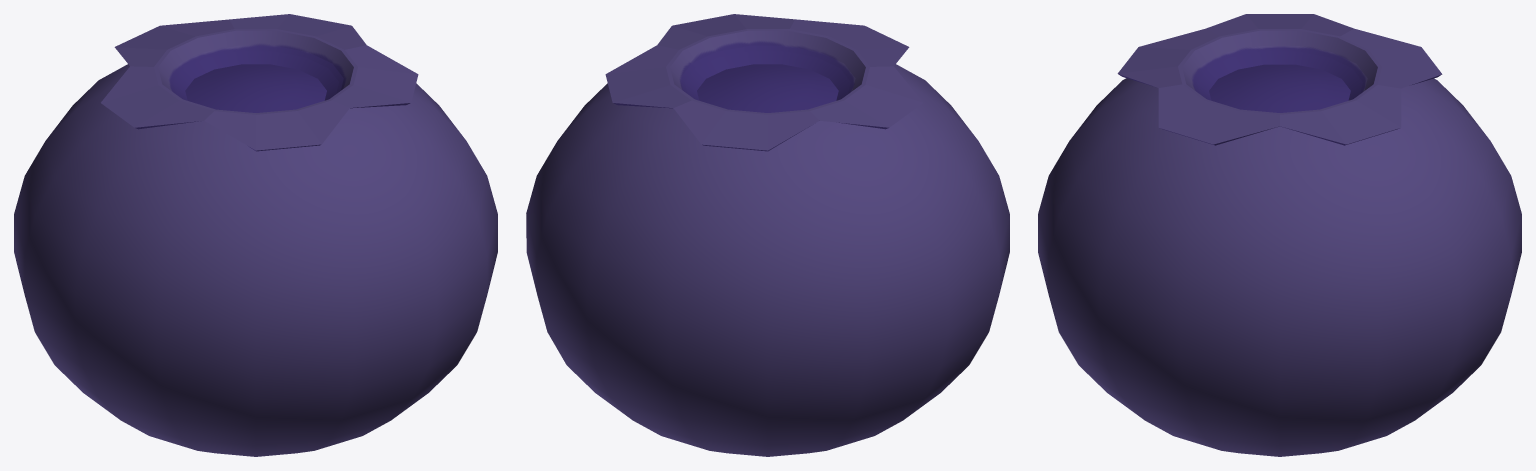
File: blueberry.fbx
The picture shows the model from 3 angles, left to right: view 1: azimuth 30°, elevation 25°; view 2: azimuth 150°, elevation 25°; view 3: azimuth 270°, elevation 25°; orthographic projection.
Parts seen in each view (by area): view 1: pSphere1; view 2: pSphere1; view 3: pSphere1.
Part boxes in pixels (<box>): pSphere1: <box>14,14,497,456</box>; pSphere1: <box>526,14,1009,456</box>; pSphere1: <box>1038,14,1521,456</box>.
Size of the model in its own units: 7.31 by 5.97 by 7.35.
